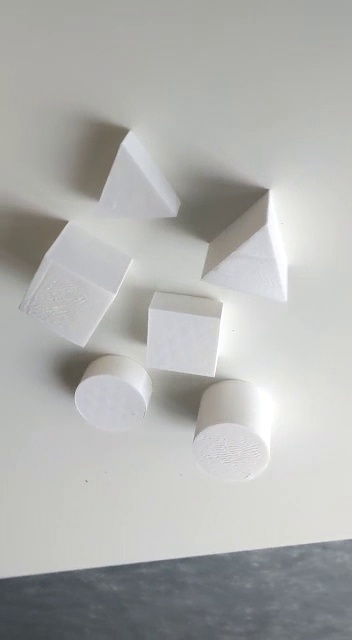Clyinder_short: (73, 352, 152, 437)
Cube: (17, 218, 135, 350)
Cube_short: (144, 289, 227, 385)
Cylinder: (193, 377, 273, 485)
Triangle: (200, 188, 294, 308)
Triangle_short: (88, 127, 187, 231)
